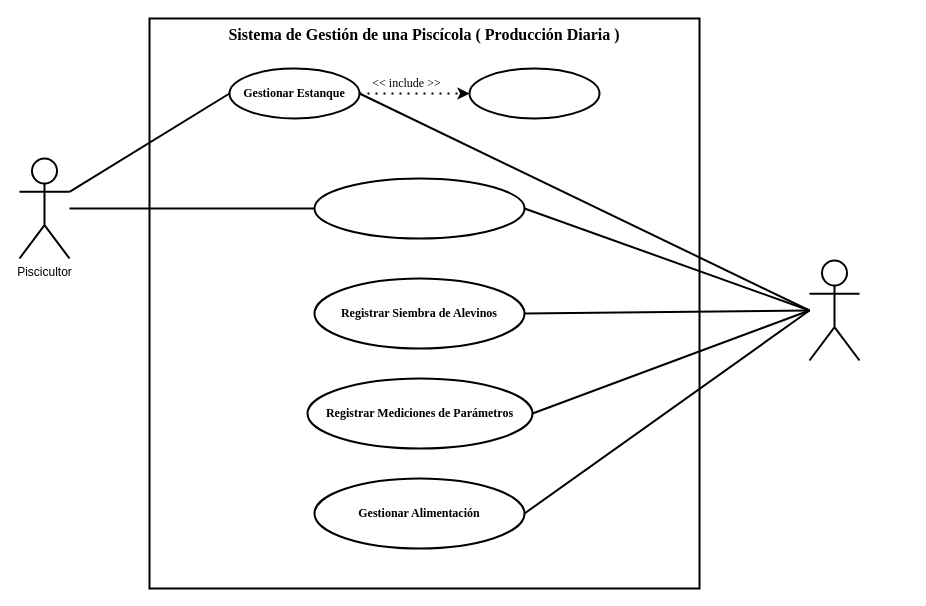
This 926x606 diagram has some shape labels left out. Here are the shapes that lost their labels. From the top down, the centre of each, then its label:
the point at 534,93: Programar Cosecha
the point at 419,208: Gestionar Lotes
the point at 834,310: Encargado de la Estación
